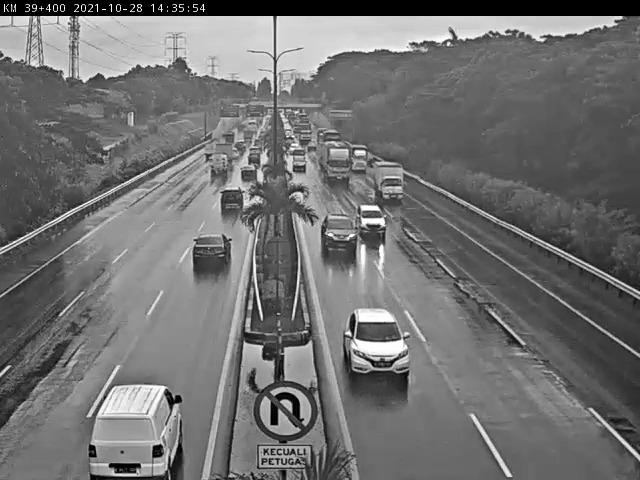big truck: (320, 143, 351, 184)
car: (86, 378, 191, 478), (340, 298, 412, 378), (321, 212, 356, 253), (187, 233, 223, 272), (352, 204, 391, 238), (219, 188, 244, 220), (284, 151, 314, 171), (244, 150, 267, 166), (238, 167, 258, 184)
small truck: (377, 163, 401, 197), (217, 142, 235, 164), (350, 147, 366, 171), (210, 155, 227, 177)
